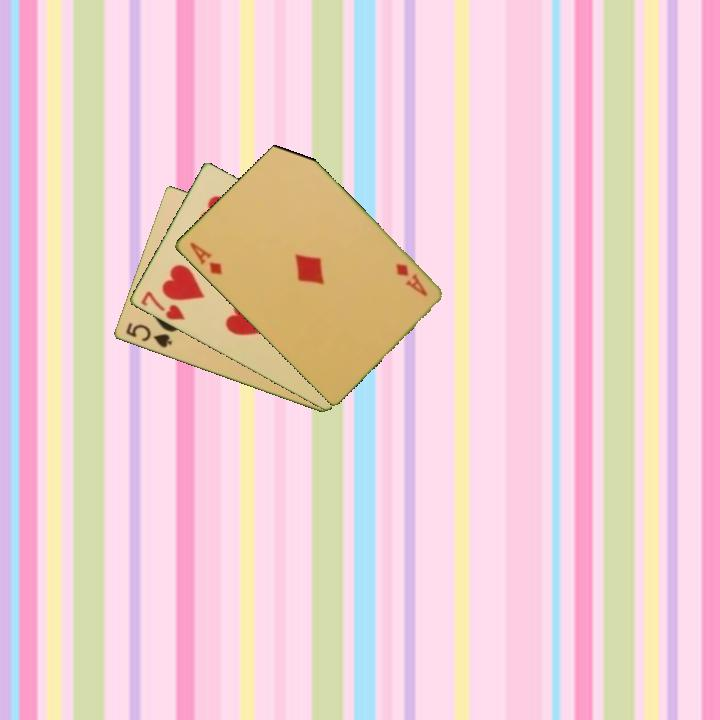5s: (122, 319, 175, 351)
7h: (137, 288, 187, 323)
Ad: (185, 238, 225, 278), (392, 260, 430, 299)
